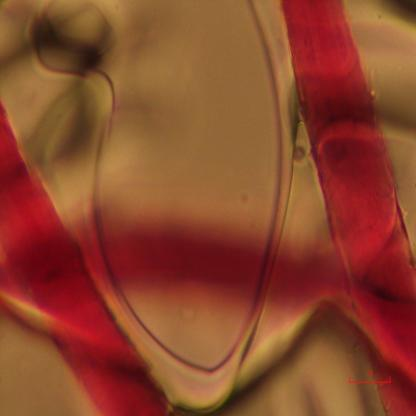Background material: (155, 300, 372, 412), (13, 2, 136, 195), (237, 6, 304, 227), (375, 0, 416, 148)
Hair textile: (280, 0, 416, 414), (0, 104, 172, 414)
Microfibre: (68, 198, 344, 336)
